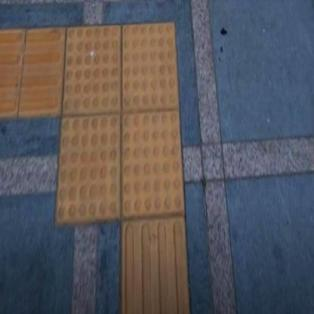Podoctatil: (37, 13, 212, 249), (119, 223, 194, 313), (0, 27, 60, 122)
